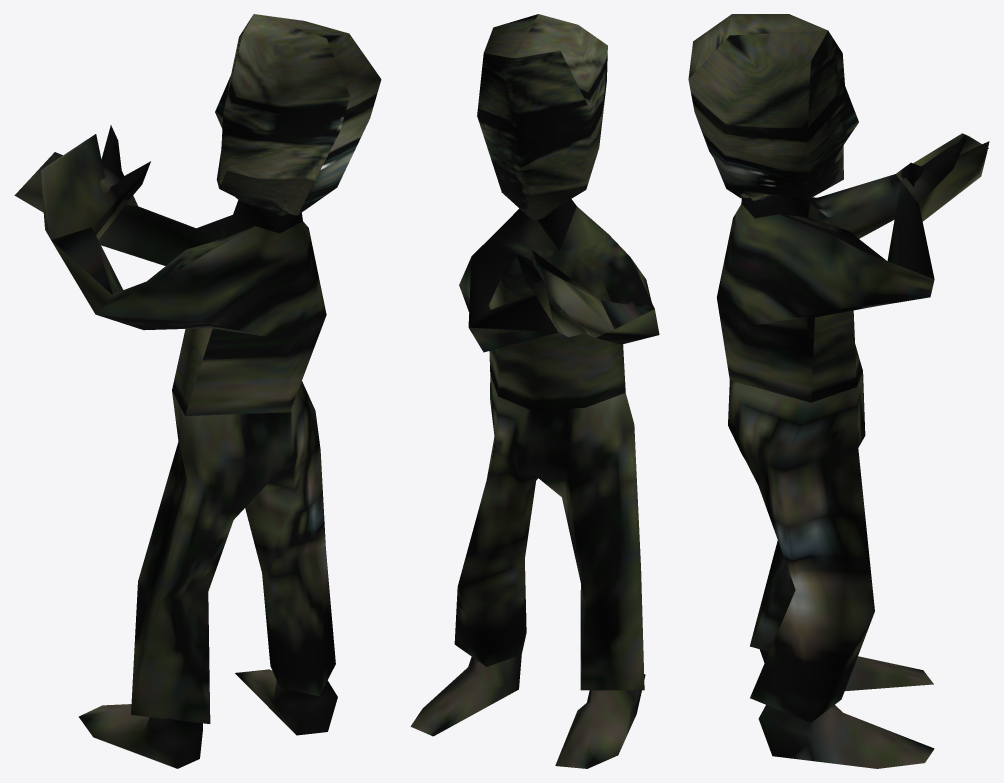
The model's file is SLIME2.ICO.obj.
3 renders of one model, left to right at view 1: azimuth 30°, elevation 25°; view 2: azimuth 150°, elevation 25°; view 3: azimuth 270°, elevation 25°, orthographic. The views are drawn at different scales.
Bounding box in the file's own units: 1.72 × 4.98 × 1.92.
